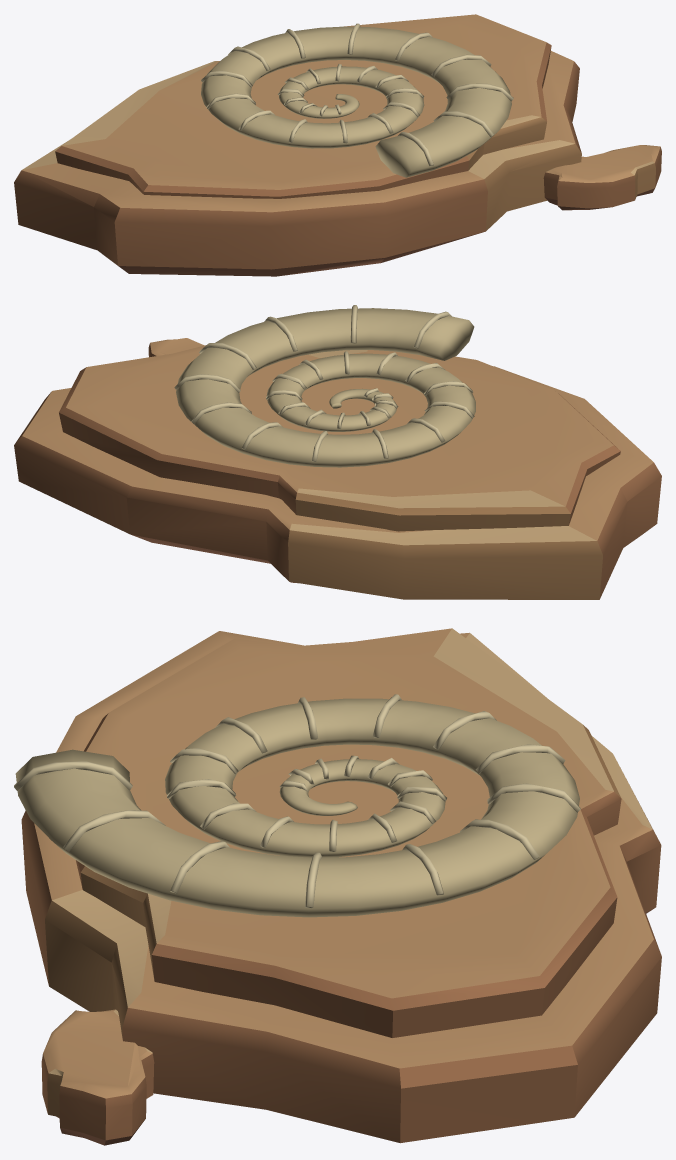
The model's file is fw_petra_raw_fossil.glb.
The picture shows the model from 3 angles, top to bottom: view 1: azimuth 30°, elevation 25°; view 2: azimuth 150°, elevation 25°; view 3: azimuth 270°, elevation 25°; orthographic projection. The views are drawn at different scales.
Visible parts, largest first — view 1: body; view 2: body; view 3: body.
Boxes of the visible parts, x1=… form: body: x1=14, y1=14, x2=661, y2=276; body: x1=14, y1=305, x2=661, y2=599; body: x1=14, y1=628, x2=661, y2=1145.
Bounding box in the file's own units: 2.23 × 0.4387 × 1.4.
